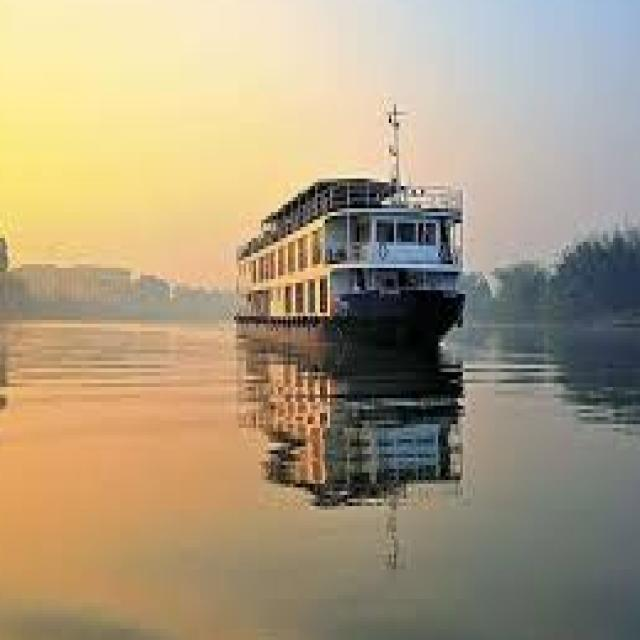passenger ship: (205, 126, 471, 347)
